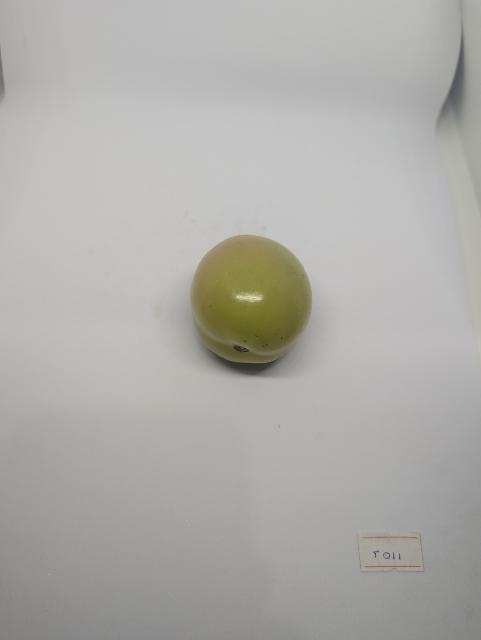breaker: (191, 235, 312, 364)
